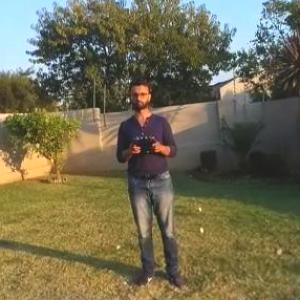follow: (113, 71, 197, 295)
